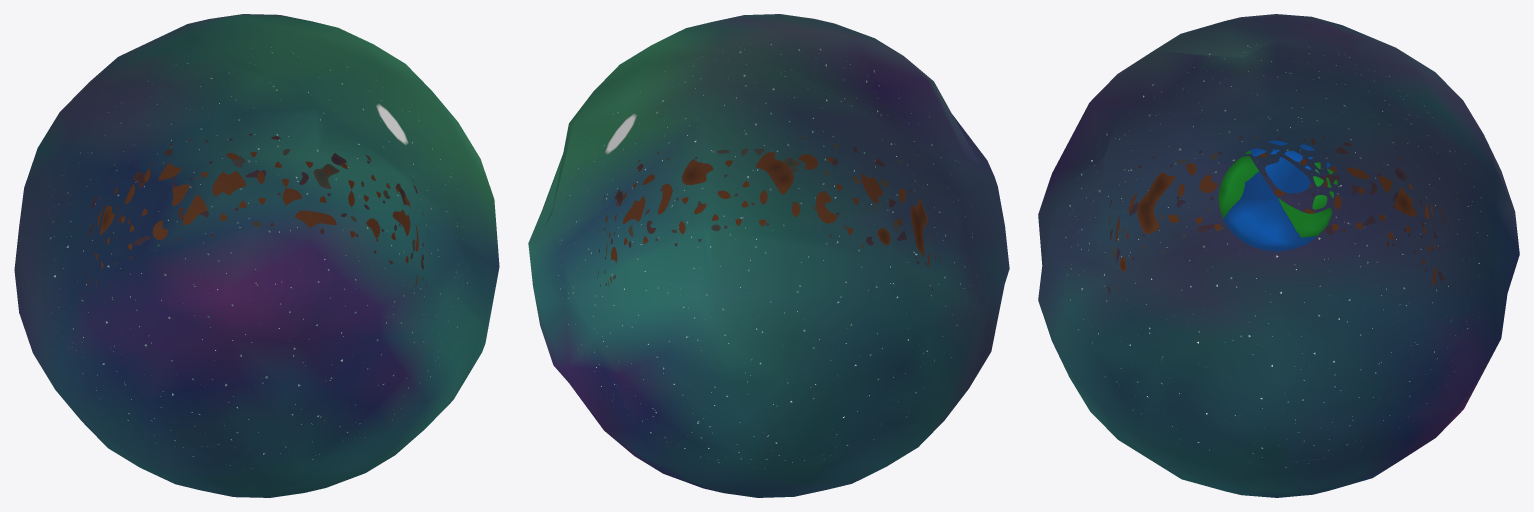
File: sky_space_01.glb
3 renders of one model, left to right at view 1: azimuth 30°, elevation 25°; view 2: azimuth 150°, elevation 25°; view 3: azimuth 270°, elevation 25°, orthographic.
Visible parts, largest first — view 1: Background, Asteroid Belt 1, Asteroid Belt 2, Stars; view 2: Background, Asteroid Belt 1, Asteroid Belt 2, Stars; view 3: Background, Earth, Asteroid Belt 1, Asteroid Belt 2, Stars.
Part boxes in pixels (x1,y1,x2,y2): Background: (14, 14, 499, 497); Asteroid Belt 1: (95, 152, 418, 286); Asteroid Belt 2: (84, 133, 429, 300); Stars: (47, 47, 467, 468); Background: (528, 14, 1009, 497); Asteroid Belt 1: (606, 152, 931, 287); Asteroid Belt 2: (597, 136, 940, 301); Stars: (558, 44, 977, 468); Background: (1038, 14, 1519, 497); Earth: (1218, 140, 1337, 251); Asteroid Belt 1: (1113, 152, 1437, 290); Asteroid Belt 2: (1106, 135, 1447, 304); Stars: (1065, 44, 1487, 467).
Size of the model in its own units: 1.99 by 2 by 1.99.
